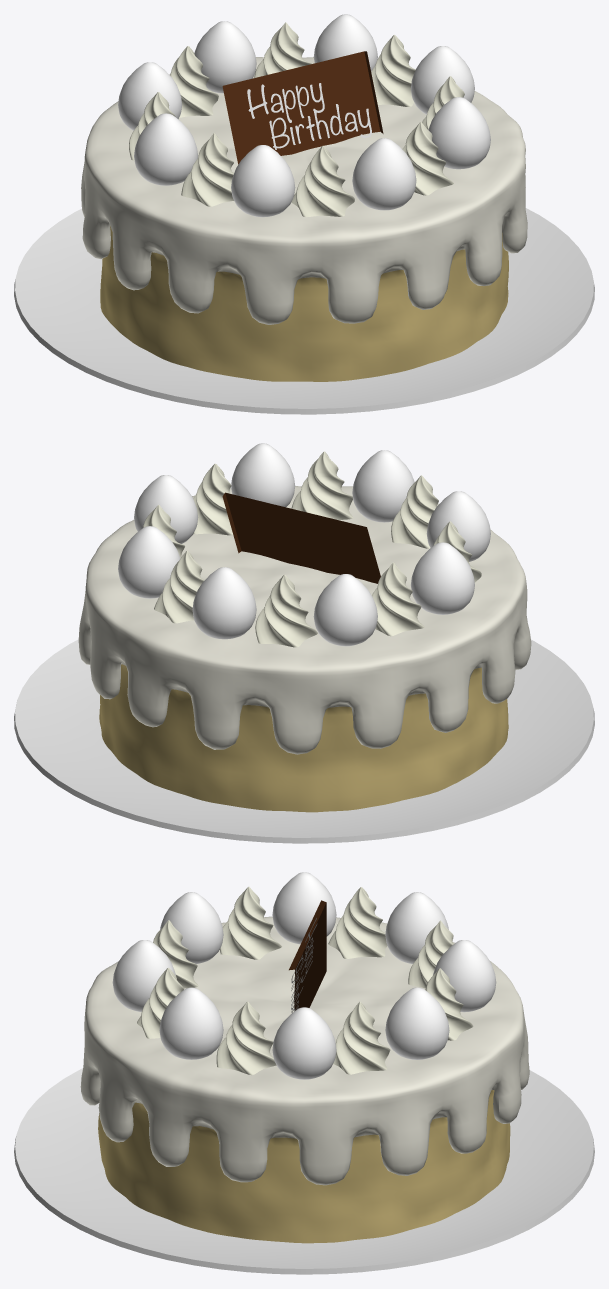
3 renders of one model, top to bottom at view 1: azimuth 30°, elevation 25°; view 2: azimuth 150°, elevation 25°; view 3: azimuth 270°, elevation 25°, orthographic.
Parts seen in each view (by area): view 1: Object_11; view 2: Object_11; view 3: Object_11.
Part boxes in pixels (x1=…): Object_11: x1=14, y1=14, x2=594, y2=414; Object_11: x1=14, y1=443, x2=594, y2=843; Object_11: x1=14, y1=872, x2=594, y2=1274.
Bounding box in the file's own units: 2.83 × 1.25 × 2.83.
